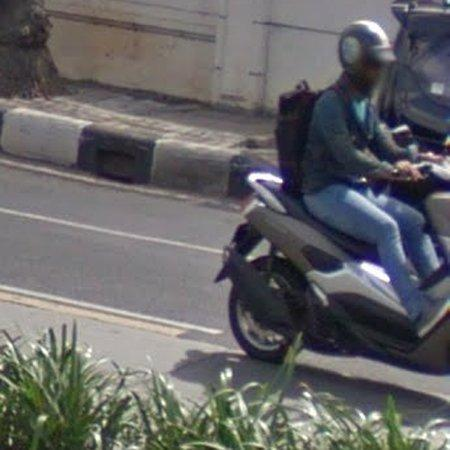motorcycles: (218, 153, 450, 374)
